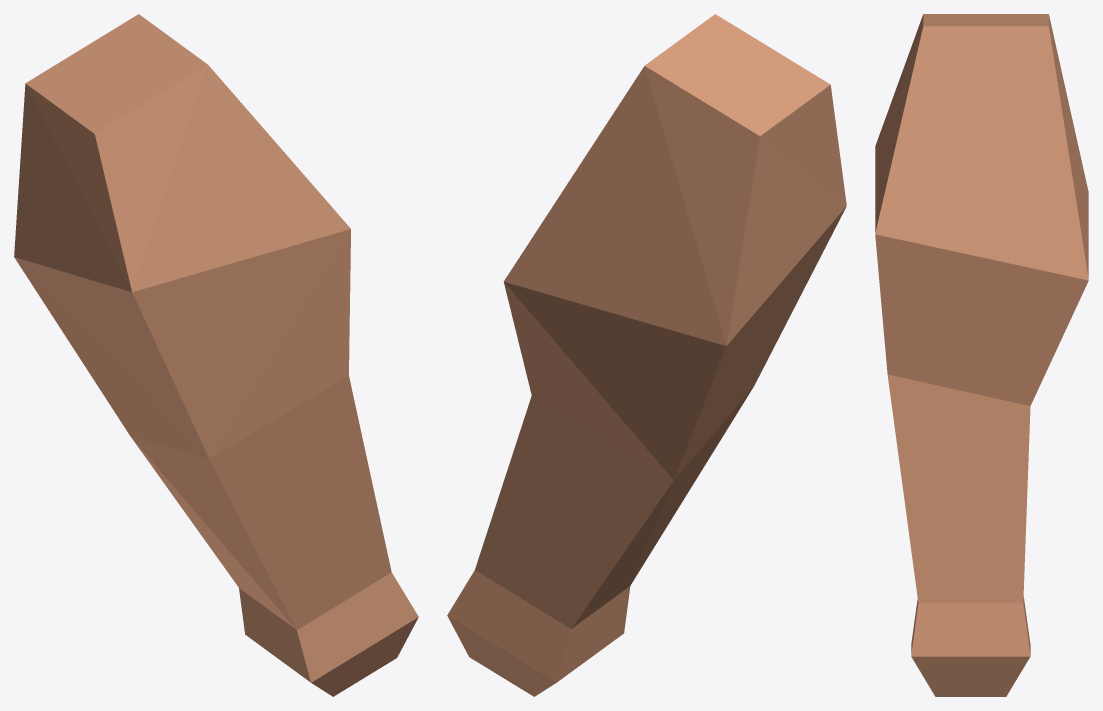
File: right_lower_arm.dae
3 views of the same model, side by side, from view 1: azimuth 30°, elevation 25°; view 2: azimuth 150°, elevation 25°; view 3: azimuth 270°, elevation 25° (orthographic). The views are drawn at different scales.
Visible parts, largest first — view 1: right_lower_arm; view 2: right_lower_arm; view 3: right_lower_arm.
Boxes of the visible parts, bbox=[...] form: right_lower_arm: bbox=[14, 14, 418, 696]; right_lower_arm: bbox=[447, 14, 846, 696]; right_lower_arm: bbox=[875, 14, 1088, 696].
Bounding box in the file's own units: 0.1823 × 0.1175 × 0.3673.
